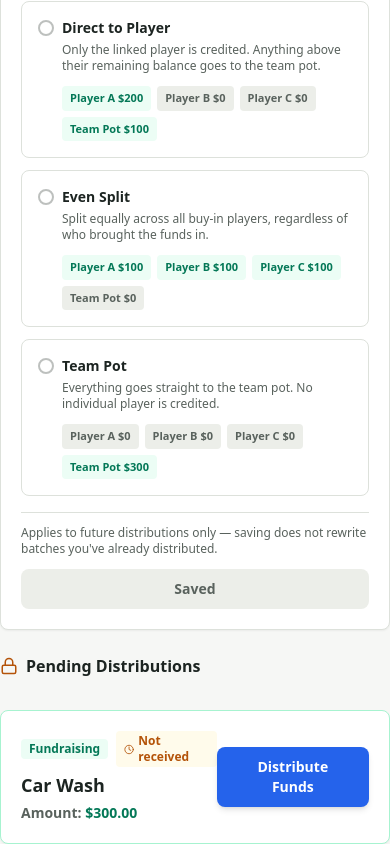
Test case: SponsorsView manual split › blocks applying when nothing has been assigned
(page scrolled)
Click the button "Distribute Funds".
click(293, 777)  # box [217,747,369,807]
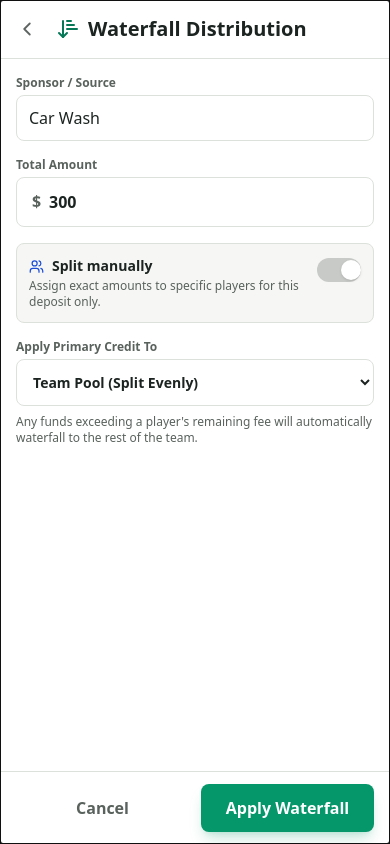
Click the switch named "Split manually".
click(339, 270)  # box [317,258,361,282]
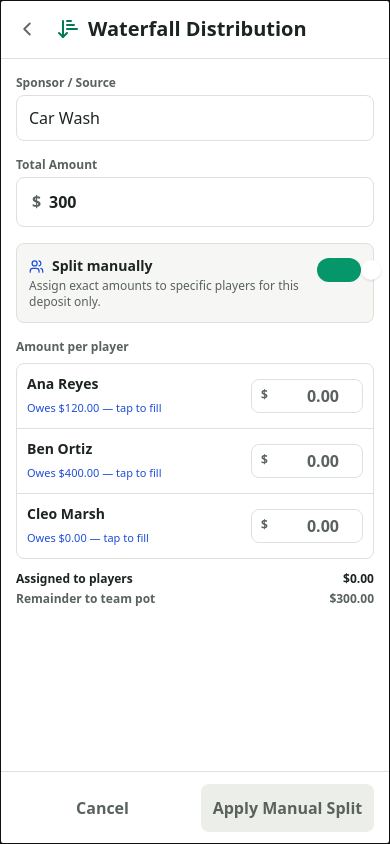
Expected: the button "Apply Manual Split" is disabled, [201,784,374,832]
